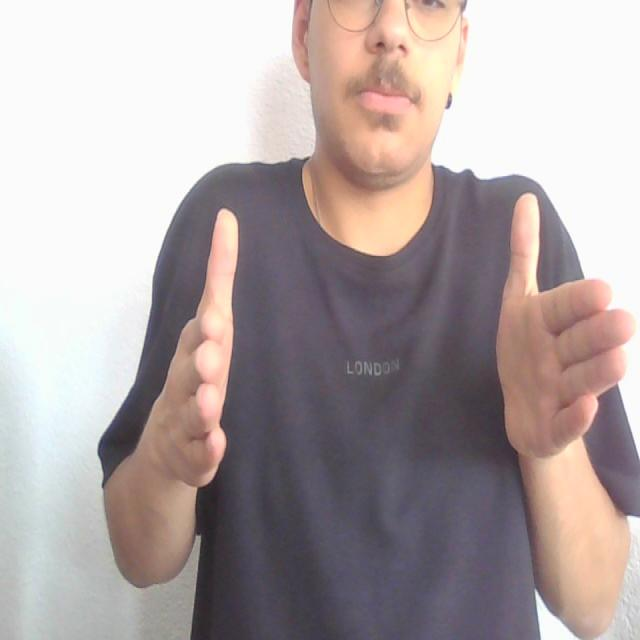Nasil: (163, 197, 638, 505)
